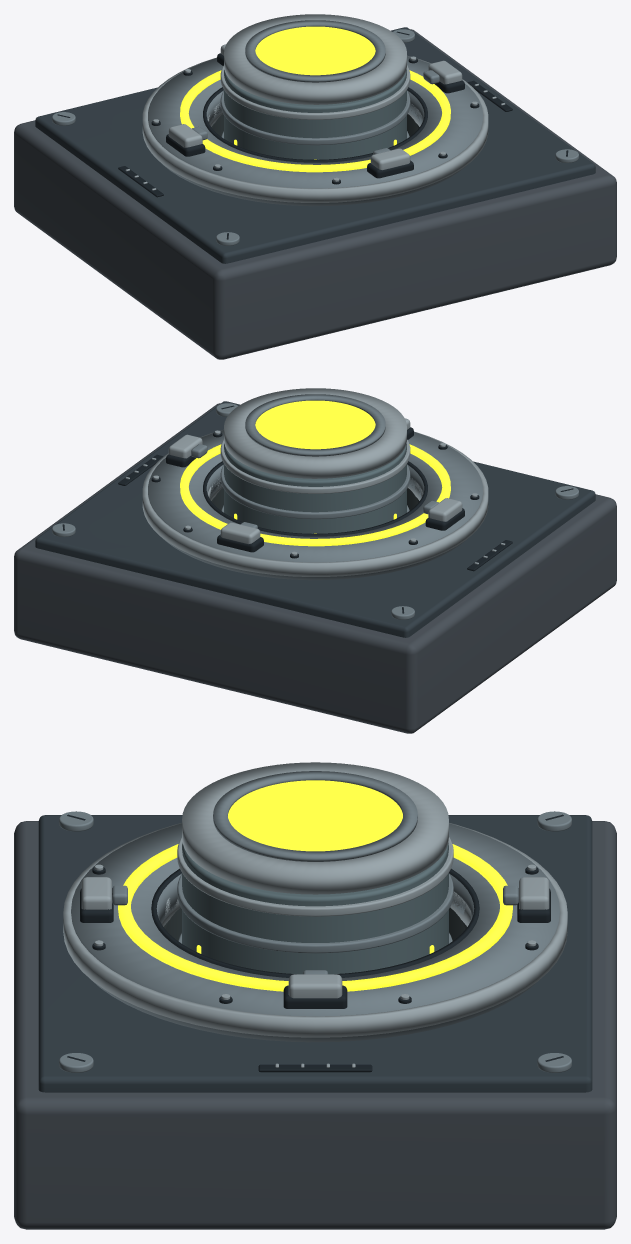
The model's file is EnergyCellSocket_Yellow.fbx.
3 views of the same model, one above another, from view 1: azimuth 30°, elevation 25°; view 2: azimuth 150°, elevation 25°; view 3: azimuth 270°, elevation 25° (orthographic). The views are drawn at different scales.
Visible parts, largest first — view 1: SOCKET_Housing_Main_Gunmetal, SOCKET_Front_Faceplate, SOCKET_Armored_Retainer_Bezel, CELL_Insert_Ceramic_Titanium_Body_Dia_0.92m, CELL_Front_Armored_End_Cap, SOCKET_Outer_Bezel_Machined_Border, CELL_Emissive_Core_Window, SOCKET_Indicator_Ring_Green_Emissive, CELL_Front_Cap_Retaining_Rim, CELL_Contact_Rib_05, CELL_Contact_Rib_04, SOCKET_Bezel_Inner_Dark_Inlay (+3 smaller); view 2: SOCKET_Housing_Main_Gunmetal, SOCKET_Front_Faceplate, SOCKET_Armored_Retainer_Bezel, CELL_Insert_Ceramic_Titanium_Body_Dia_0.92m, CELL_Front_Armored_End_Cap, SOCKET_Outer_Bezel_Machined_Border, CELL_Emissive_Core_Window, SOCKET_Indicator_Ring_Green_Emissive, CELL_Front_Cap_Retaining_Rim, CELL_Contact_Rib_05, CELL_Contact_Rib_04, SOCKET_Bezel_Inner_Dark_Inlay (+3 smaller); view 3: SOCKET_Housing_Main_Gunmetal, SOCKET_Front_Faceplate, SOCKET_Armored_Retainer_Bezel, CELL_Insert_Ceramic_Titanium_Body_Dia_0.92m, CELL_Front_Armored_End_Cap, SOCKET_Outer_Bezel_Machined_Border, CELL_Emissive_Core_Window, SOCKET_Indicator_Ring_Green_Emissive, CELL_Front_Cap_Retaining_Rim, CELL_Contact_Rib_05, CELL_Contact_Rib_04, SOCKET_Bezel_Inner_Dark_Inlay (+6 smaller).
Part boxes in pixels (x1,y1,x2,y2): SOCKET_Housing_Main_Gunmetal: (14,29,616,359); SOCKET_Front_Faceplate: (35,27,595,263); SOCKET_Armored_Retainer_Bezel: (148,56,482,206); CELL_Insert_Ceramic_Titanium_Body_Dia_0.92m: (224,69,406,159); CELL_Front_Armored_End_Cap: (224,14,406,104); SOCKET_Outer_Bezel_Machined_Border: (142,55,488,202); CELL_Emissive_Core_Window: (255,26,375,75); SOCKET_Indicator_Ring_Green_Emissive: (180,70,450,172); CELL_Front_Cap_Retaining_Rim: (245,20,385,82); CELL_Contact_Rib_05: (220,65,410,119); CELL_Contact_Rib_04: (220,90,410,145); SOCKET_Bezel_Inner_Dark_Inlay: (203,87,427,162); SOCKET_Housing_Main_Gunmetal: (14,403,616,733); SOCKET_Front_Faceplate: (35,401,595,637); SOCKET_Armored_Retainer_Bezel: (148,430,482,580); CELL_Insert_Ceramic_Titanium_Body_Dia_0.92m: (224,443,406,533); CELL_Front_Armored_End_Cap: (224,388,406,478); SOCKET_Outer_Bezel_Machined_Border: (142,429,488,576); CELL_Emissive_Core_Window: (255,400,375,449); SOCKET_Indicator_Ring_Green_Emissive: (180,444,450,546); CELL_Front_Cap_Retaining_Rim: (245,394,385,456); CELL_Contact_Rib_05: (220,439,410,493); CELL_Contact_Rib_04: (220,464,410,519); SOCKET_Bezel_Inner_Dark_Inlay: (203,461,427,536); SOCKET_Housing_Main_Gunmetal: (14,821,616,1229); SOCKET_Front_Faceplate: (38,815,592,1092); SOCKET_Armored_Retainer_Bezel: (71,823,559,1042); CELL_Insert_Ceramic_Titanium_Body_Dia_0.92m: (182,843,448,974); CELL_Front_Armored_End_Cap: (182,762,448,894); SOCKET_Outer_Bezel_Machined_Border: (63,823,567,1037); CELL_Emissive_Core_Window: (228,780,402,851); SOCKET_Indicator_Ring_Green_Emissive: (118,844,512,991); CELL_Front_Cap_Retaining_Rim: (213,771,417,861); CELL_Contact_Rib_05: (177,837,453,916); CELL_Contact_Rib_04: (177,874,453,953); SOCKET_Bezel_Inner_Dark_Inlay: (151,868,479,977).
Bounding box in the file's own units: 2.34 × 1.05 × 2.08.
